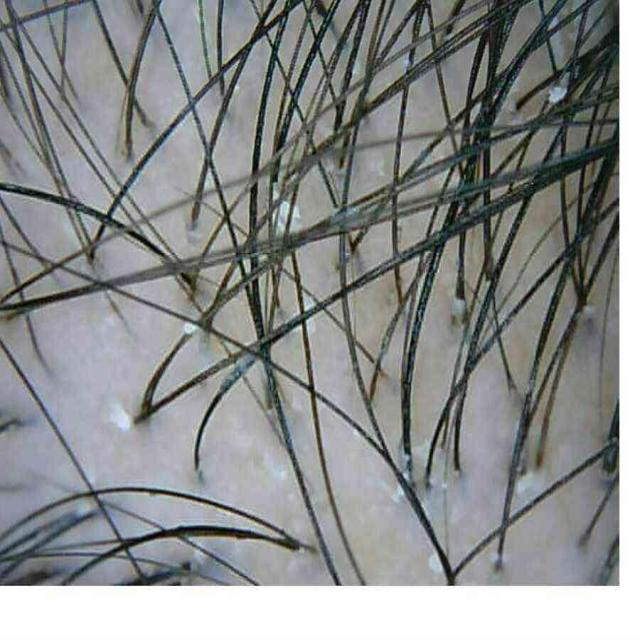d: (271, 183, 302, 220), (111, 403, 133, 425), (549, 83, 570, 103), (181, 320, 198, 336), (427, 547, 438, 571)
